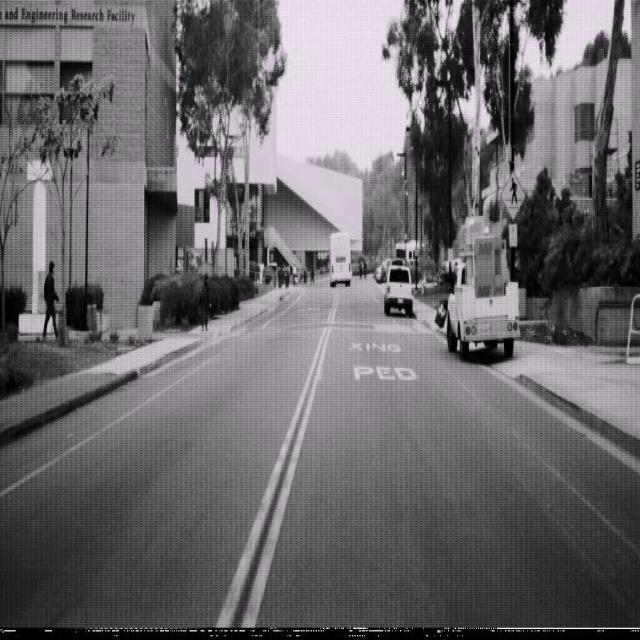pedestrianCrossing: (499, 168, 526, 221)
